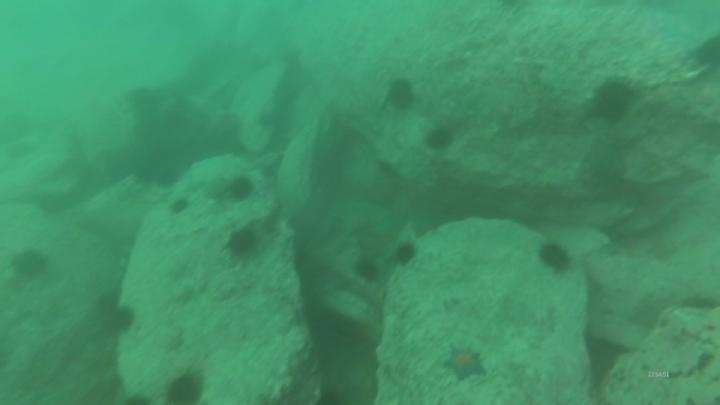echinus: (590, 77, 638, 124), (162, 369, 207, 405), (10, 246, 51, 282), (535, 240, 574, 276), (224, 225, 262, 260), (384, 76, 418, 113), (691, 33, 720, 76), (422, 123, 457, 154), (225, 174, 257, 204), (352, 256, 382, 284), (391, 240, 419, 268), (110, 308, 134, 331), (167, 195, 192, 217), (97, 291, 119, 316)
starfish: (441, 343, 488, 383), (203, 178, 230, 201)
